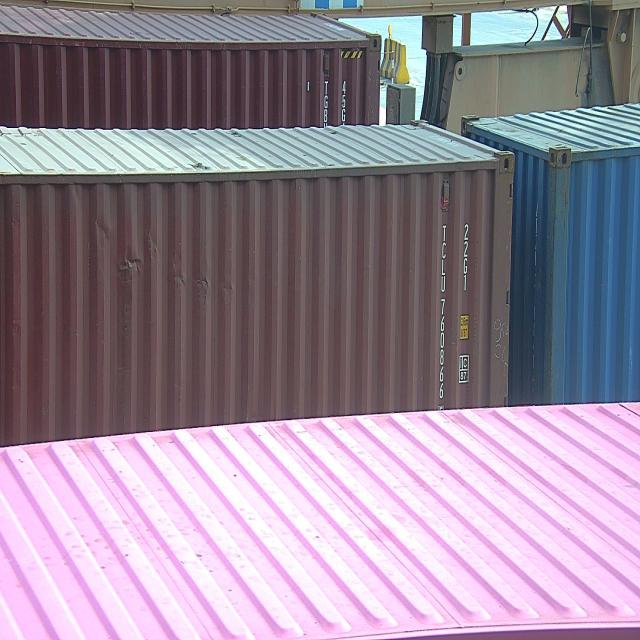hole: (93, 219, 171, 291)
